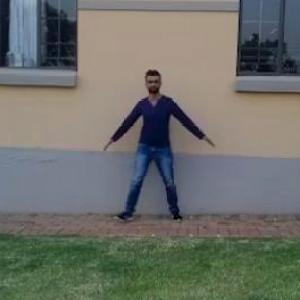land: (104, 71, 212, 236)
